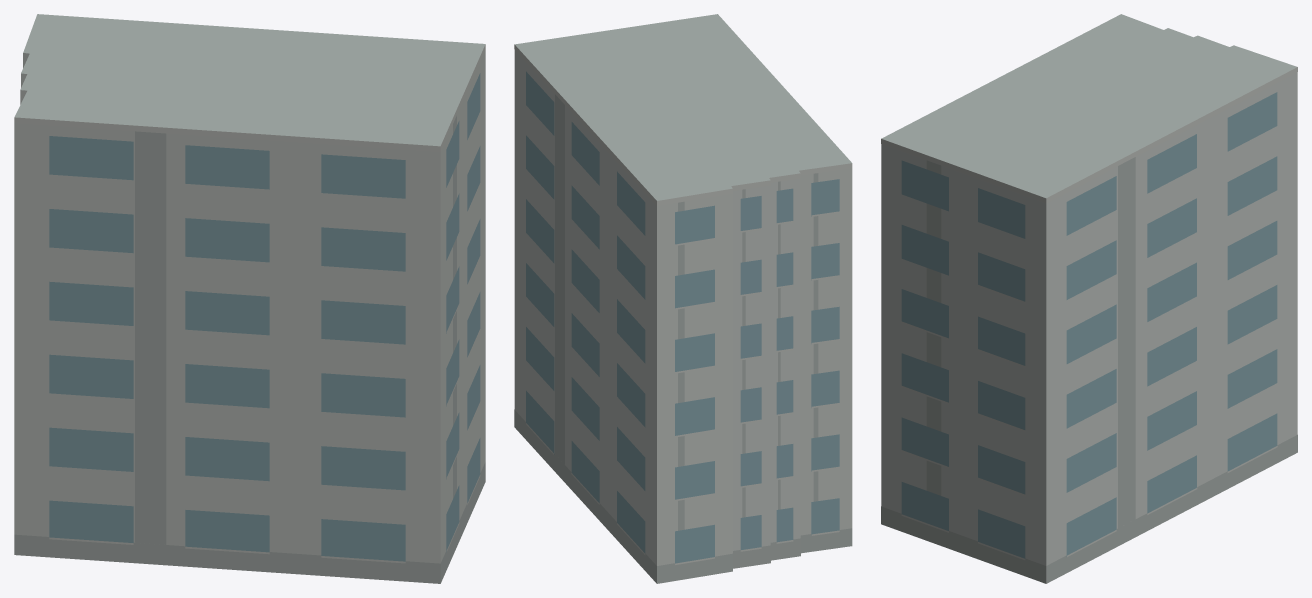
Rendered from survey-upis-32553283.glb.
The picture shows the model from 3 angles, left to right: view 1: azimuth 30°, elevation 25°; view 2: azimuth 150°, elevation 25°; view 3: azimuth 270°, elevation 25°; orthographic projection. The views are drawn at different scales.
Visible parts, largest first — view 1: survey-upis-32553283.tmp; view 2: survey-upis-32553283.tmp; view 3: survey-upis-32553283.tmp.
Boxes of the visible parts, x1,y1,x2,y2 form: survey-upis-32553283.tmp: (14,14,485,583); survey-upis-32553283.tmp: (514,14,852,583); survey-upis-32553283.tmp: (881,14,1297,583).
Size of the model in its own units: 18.77 by 18.3 by 17.92.
